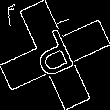P_SE: (28, 25, 82, 85)
